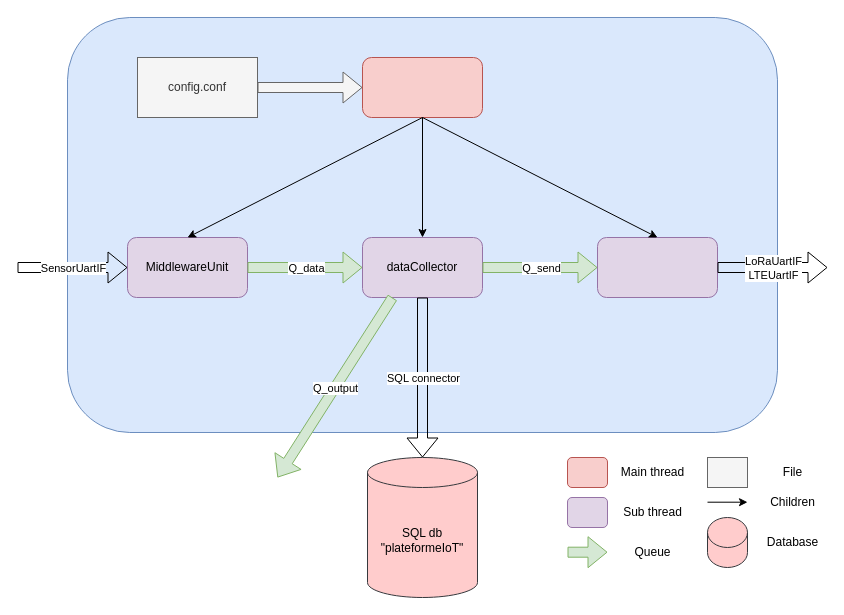
Some shapes in this 844 by 615 pixel diagram are drawn without their labels. Each missing label, with the centre of its shape:
"main.py" goes at (422,87).
"NetworkUnit" goes at (657,267).
